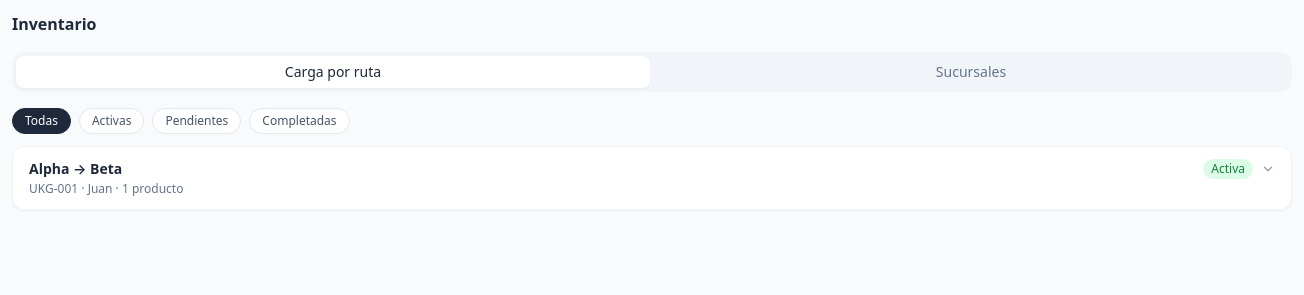
Test: Inventory page › shows “Sin carga registrada” when expanded card has no loads
Click the button "Alpha → Beta UKG-001 · Juan · 1 producto Activa": (49, 168) [13,147,1291,209]
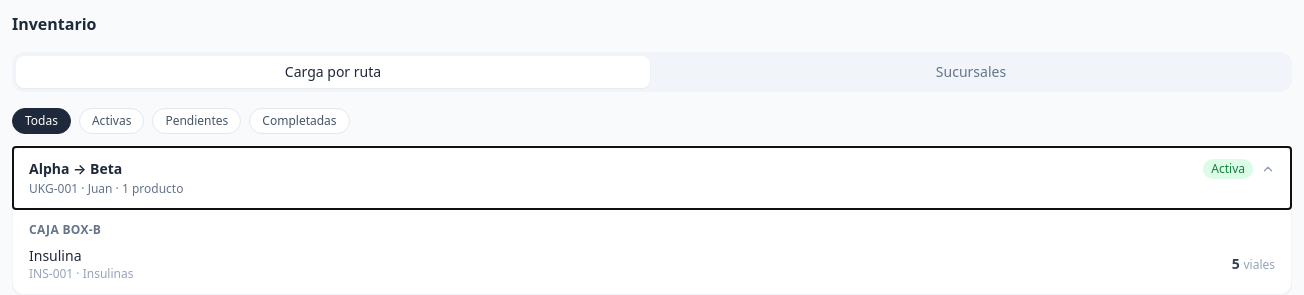
expect the text "Insulina" is shown: met, box [29,246,82,265]
Click the button "Alpha → Beta UKG-001 · Juan · 1 producto Activa": (49, 168) [13,147,1291,209]
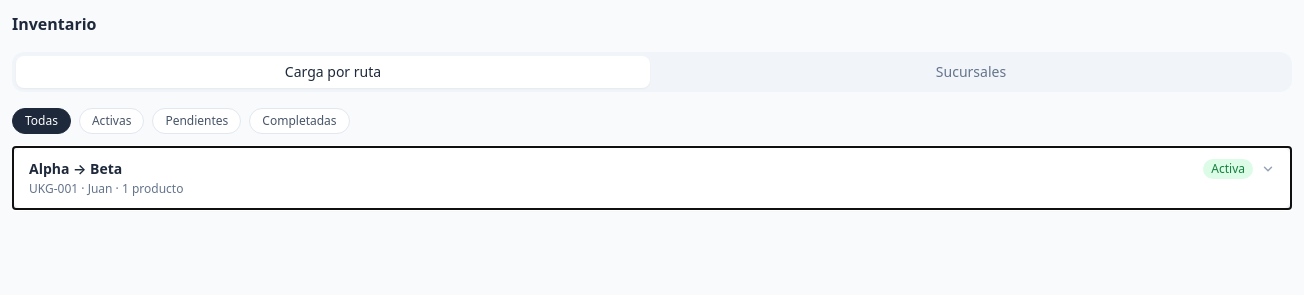
expect the text "Insulina" is gone: met
